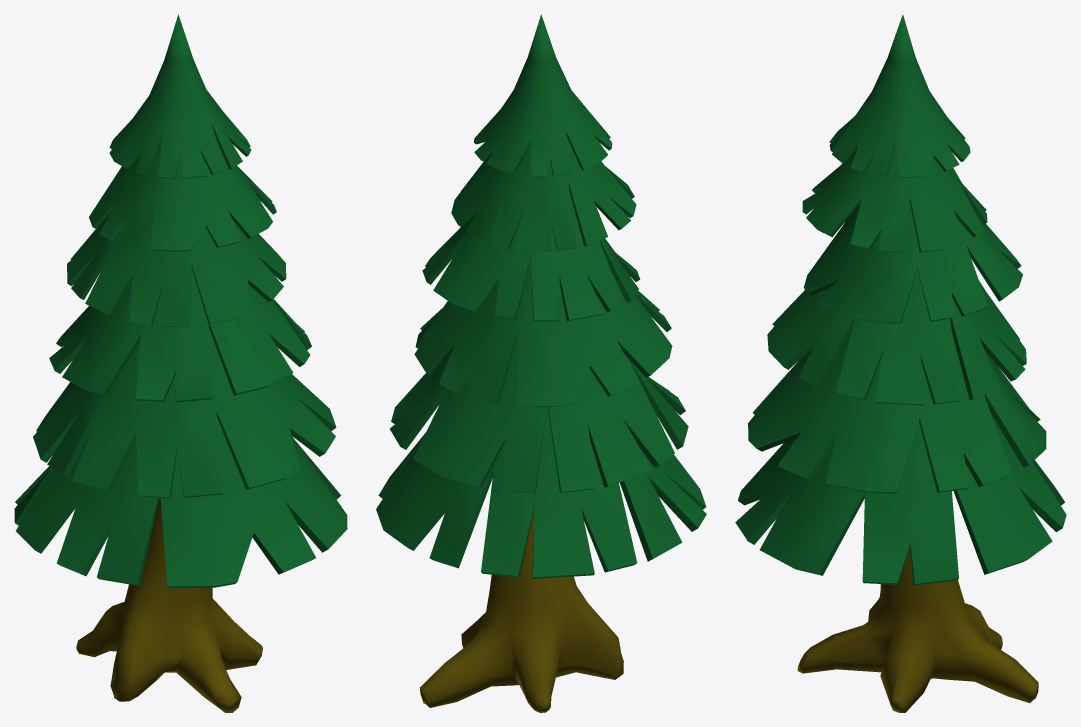
The model's file is tree_v2.fbx.
3 views of the same model, side by side, from view 1: azimuth 30°, elevation 25°; view 2: azimuth 150°, elevation 25°; view 3: azimuth 270°, elevation 25° (orthographic).
Parts seen in each view (by area): view 1: t2mesh; view 2: t2mesh; view 3: t2mesh.
Part boxes in pixels (x1=…): t2mesh: x1=14, y1=14, x2=347, y2=712; t2mesh: x1=376, y1=14, x2=706, y2=712; t2mesh: x1=735, y1=14, x2=1066, y2=712.
Bounding box in the file's own units: 1.38 × 3.03 × 1.37.
